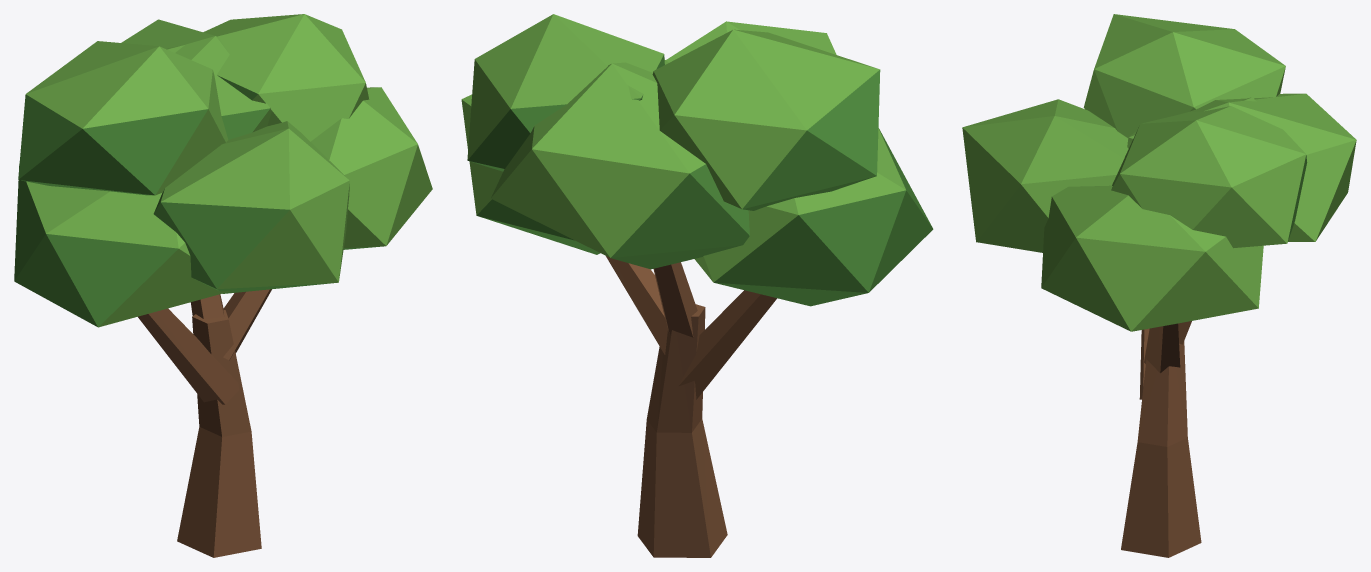
File: BE_Nature_TreeRoundA.fbx
3 views of the same model, side by side, from view 1: azimuth 30°, elevation 25°; view 2: azimuth 150°, elevation 25°; view 3: azimuth 270°, elevation 25° (orthographic). The views are drawn at different scales.
Parts seen in each view (by area): view 1: BE_Nature_TreeRoundA_LeafBase_6FAE4A, BE_Nature_TreeRoundA_LeafShade_4C8A3A, BE_Nature_TreeRoundA_TrunkBase_7A5236, BE_Nature_TreeRoundA_TrunkShade_62412C; view 2: BE_Nature_TreeRoundA_LeafBase_6FAE4A, BE_Nature_TreeRoundA_LeafShade_4C8A3A, BE_Nature_TreeRoundA_TrunkBase_7A5236, BE_Nature_TreeRoundA_TrunkShade_62412C; view 3: BE_Nature_TreeRoundA_LeafBase_6FAE4A, BE_Nature_TreeRoundA_TrunkBase_7A5236, BE_Nature_TreeRoundA_TrunkShade_62412C.
Boxes of the visible parts, box(x1,y1,x2,y2) form: BE_Nature_TreeRoundA_LeafBase_6FAE4A: box(19, 14, 432, 327); BE_Nature_TreeRoundA_LeafShade_4C8A3A: box(14, 75, 383, 327); BE_Nature_TreeRoundA_TrunkBase_7A5236: box(148, 289, 271, 557); BE_Nature_TreeRoundA_TrunkShade_62412C: box(138, 314, 224, 404); BE_Nature_TreeRoundA_LeafBase_6FAE4A: box(461, 14, 905, 282); BE_Nature_TreeRoundA_LeafShade_4C8A3A: box(468, 54, 933, 306); BE_Nature_TreeRoundA_TrunkBase_7A5236: box(606, 256, 776, 557); BE_Nature_TreeRoundA_TrunkShade_62412C: box(653, 264, 710, 557); BE_Nature_TreeRoundA_LeafBase_6FAE4A: box(962, 14, 1356, 331); BE_Nature_TreeRoundA_TrunkBase_7A5236: box(1121, 321, 1201, 557); BE_Nature_TreeRoundA_TrunkShade_62412C: box(1140, 323, 1180, 399).
Size of the model in its own units: 22 by 20 by 27.
